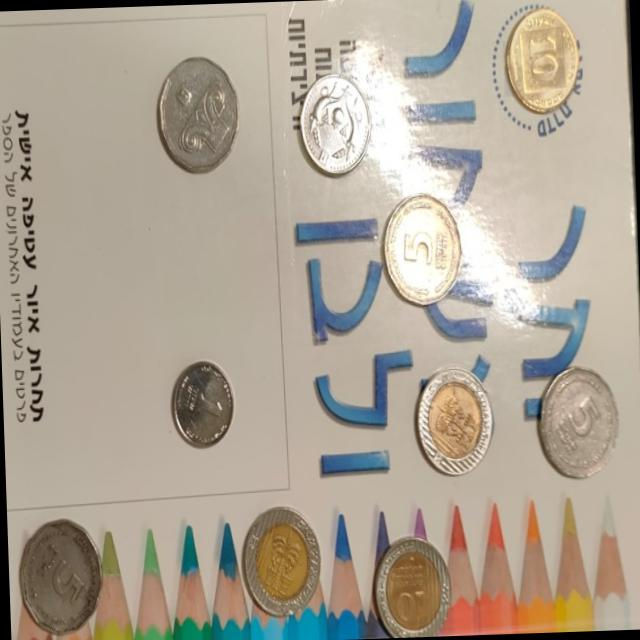1-shekel: (174, 364, 233, 451)
10-shekel: (406, 366, 498, 478), (242, 510, 324, 621), (368, 540, 457, 638)
2-shekel: (294, 58, 374, 176)
5-shekel: (156, 51, 247, 176), (17, 516, 104, 634), (538, 361, 620, 476), (378, 204, 464, 304)
